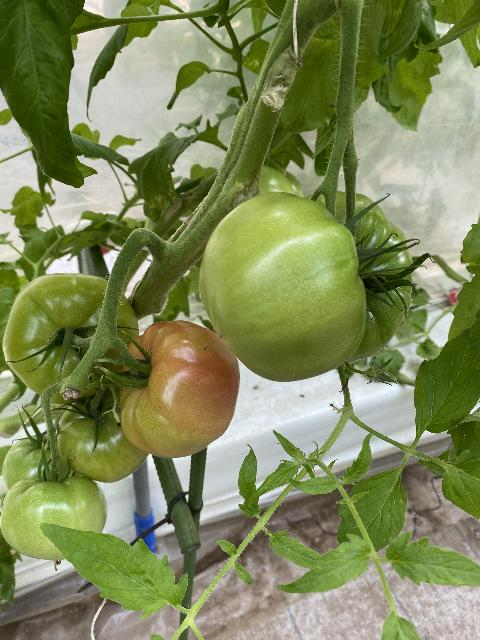b_green: (199, 191, 367, 382), (305, 189, 413, 367), (2, 272, 140, 403), (1, 476, 108, 561), (57, 385, 149, 483), (3, 433, 85, 490)
b_half_ripened: (119, 319, 240, 458)
